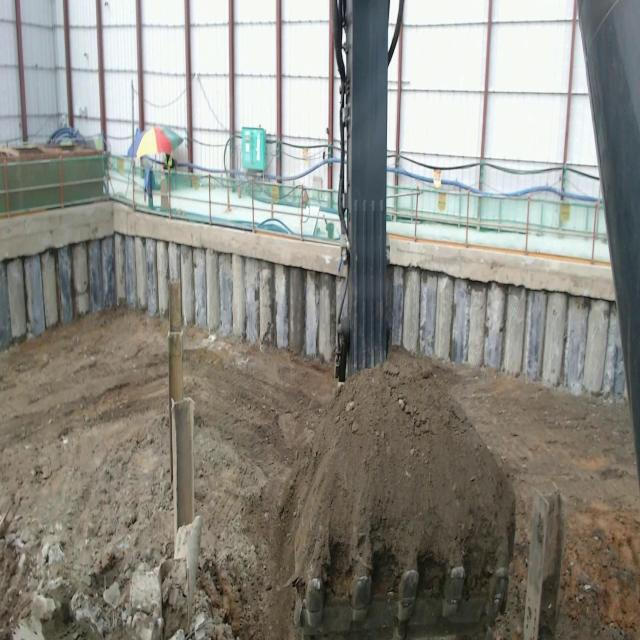white-sand: (385, 348, 640, 639), (0, 310, 174, 639), (292, 362, 515, 600), (185, 329, 332, 639)
